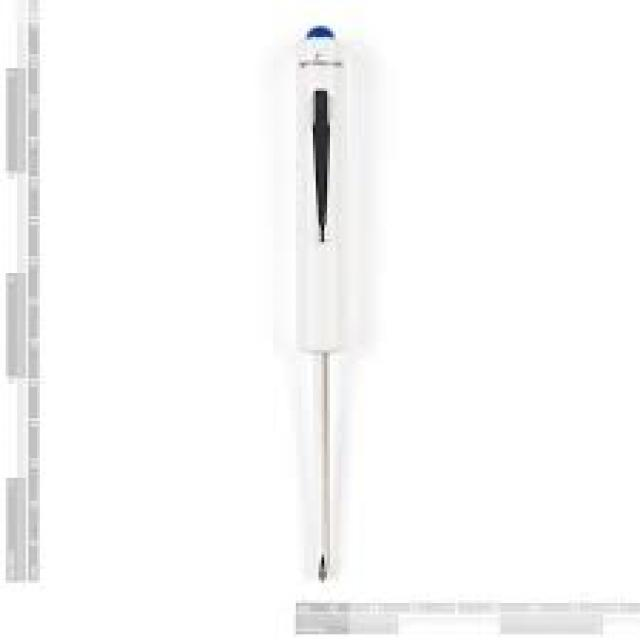screwdriver: (278, 13, 377, 605)
